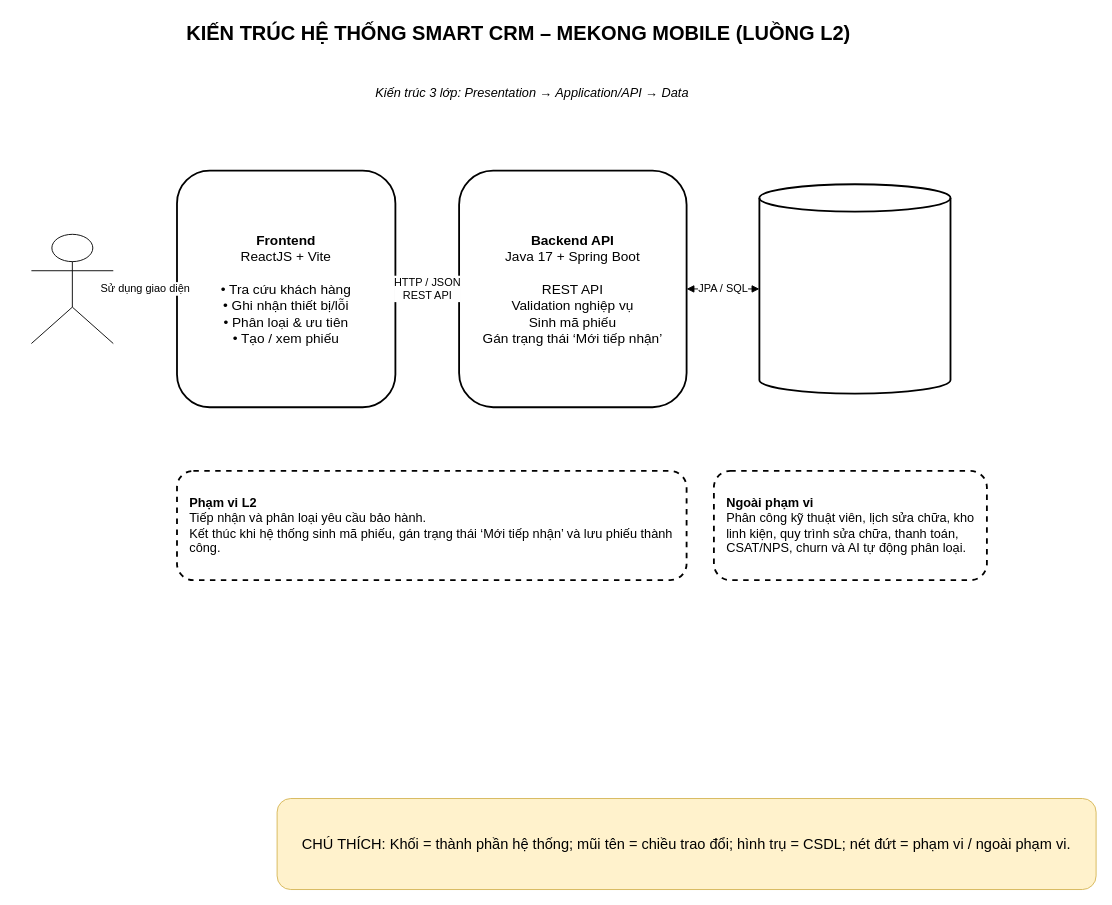
Some shapes in this 1112 by 905 pixel diagram are drawn without their labels. The shapes that lost their labels are listed below. From the top down, each one's centre as x and y in pixels, then its label:
At (71,288): "Nhân viên tiếp nhận".
At (854,288): "MySQL Database customer device issue_category ticket ticket_status_log".
